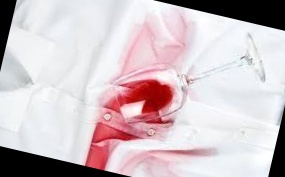wine: (80, 96, 167, 177), (122, 6, 196, 89), (130, 143, 200, 177)
